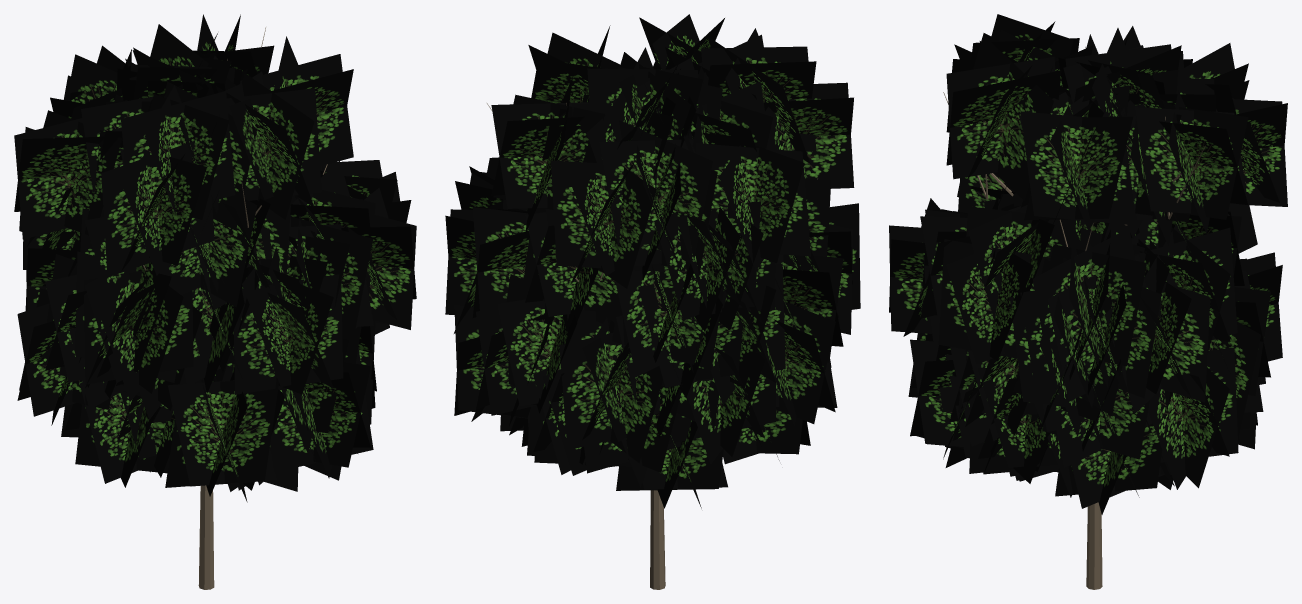
Rendered from Beech_1_LOD0.glb.
3 renders of one model, left to right at view 1: azimuth 30°, elevation 25°; view 2: azimuth 150°, elevation 25°; view 3: azimuth 270°, elevation 25°, orthographic.
Visible parts, largest first — view 1: Beech_1_LOD0; view 2: Beech_1_LOD0; view 3: Beech_1_LOD0.
Part boxes in pixels (x1,y1,x2,y2): Beech_1_LOD0: [14, 14, 416, 589]; Beech_1_LOD0: [445, 14, 860, 589]; Beech_1_LOD0: [889, 14, 1287, 589].
Size of the model in its own units: 14.67 by 20.59 by 13.81.
Materials: 2 (1 with a texture image).
